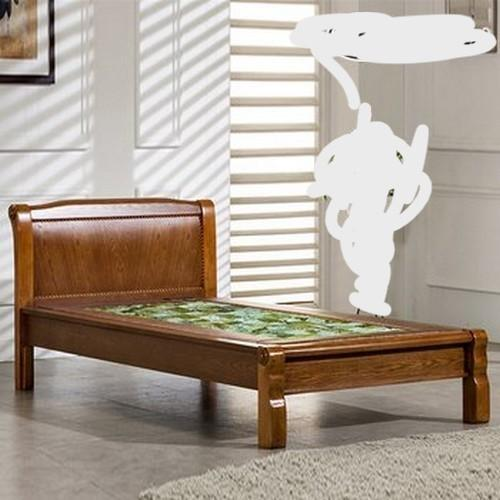Bed-Mattress: (9, 168, 494, 445)
